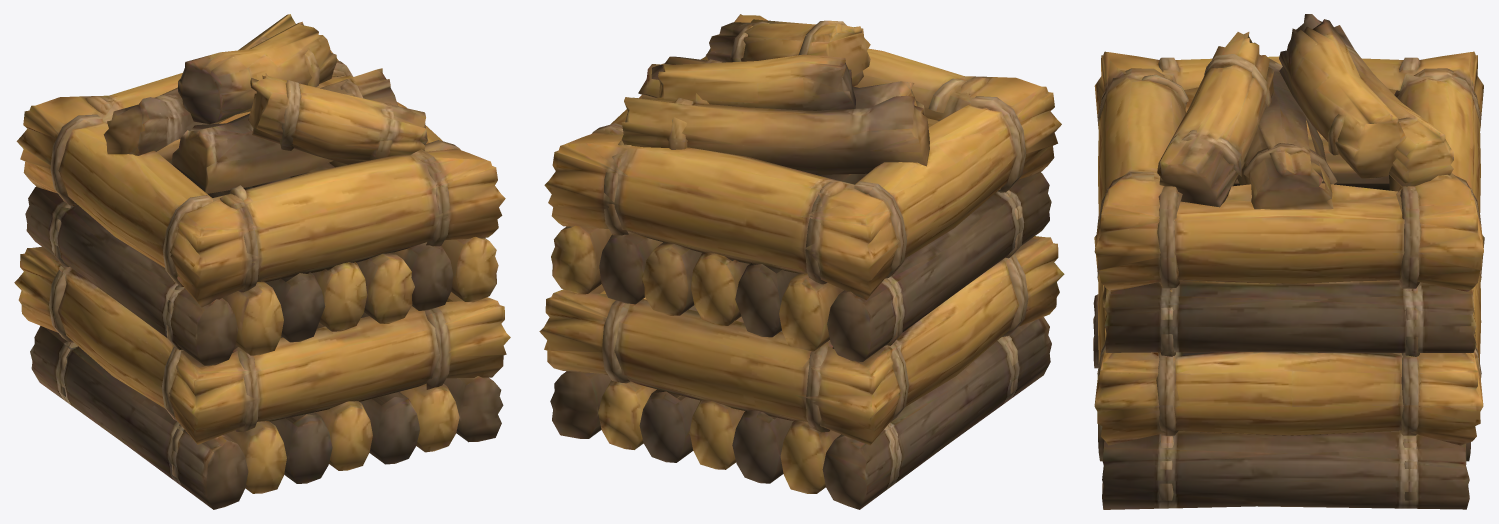
File: SM_Tripo_DesertBrushwoodPile.glb
3 renders of one model, left to right at view 1: azimuth 30°, elevation 25°; view 2: azimuth 150°, elevation 25°; view 3: azimuth 270°, elevation 25°, orthographic. The views are drawn at different scales.
Parts seen in each view (by area): view 1: SM_Tripo_DesertBrushwoodPile_LOD0; view 2: SM_Tripo_DesertBrushwoodPile_LOD0; view 3: SM_Tripo_DesertBrushwoodPile_LOD0.
Boxes of the visible parts, x1,y1,x2,y2 form: SM_Tripo_DesertBrushwoodPile_LOD0: (14,14,510,509); SM_Tripo_DesertBrushwoodPile_LOD0: (539,14,1064,509); SM_Tripo_DesertBrushwoodPile_LOD0: (1093,14,1484,509).
Bounding box in the file's own units: 1.2 × 1.3 × 1.19.
1 material, 1 textured.
